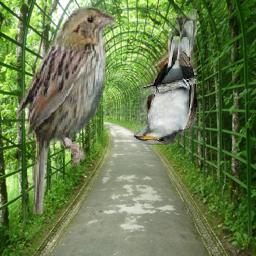Cuckoo: (135, 9, 198, 145)
Sparrow: (16, 4, 116, 214)
